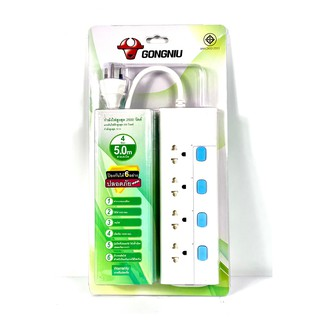Three_eye_plug: (150, 99, 223, 290)
